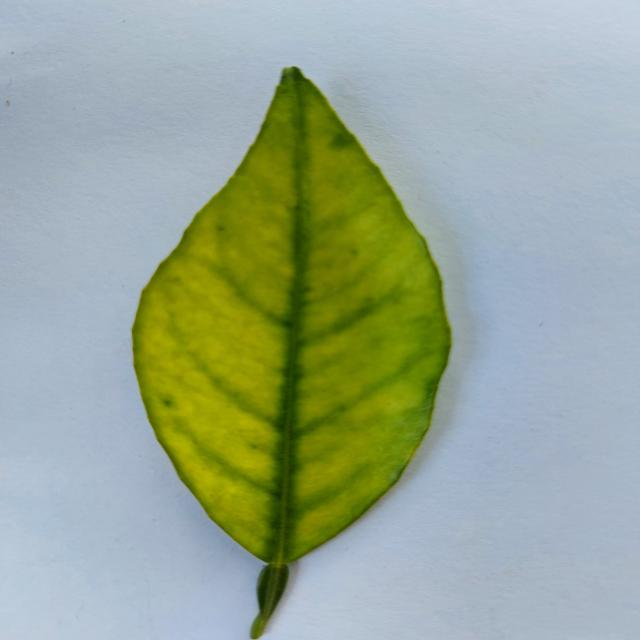greening: (133, 67, 450, 638)
